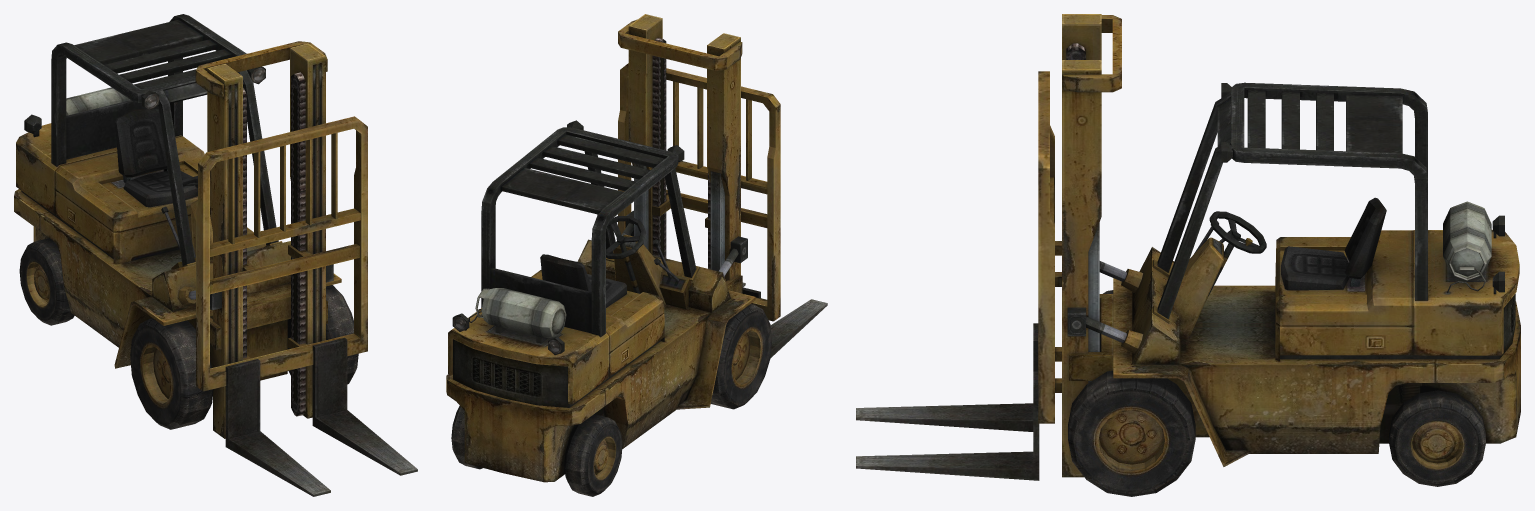
Rendered from 6NAYP9FNDGJH3GTA4V3D9RNCL.glb.
The picture shows the model from 3 angles, left to right: view 1: azimuth 30°, elevation 25°; view 2: azimuth 150°, elevation 25°; view 3: azimuth 270°, elevation 25°; orthographic projection. The views are drawn at different scales.
Size of the model in its own units: 0.88 by 1.69 by 2.5.
Materials: 1 (1 with a texture image).
